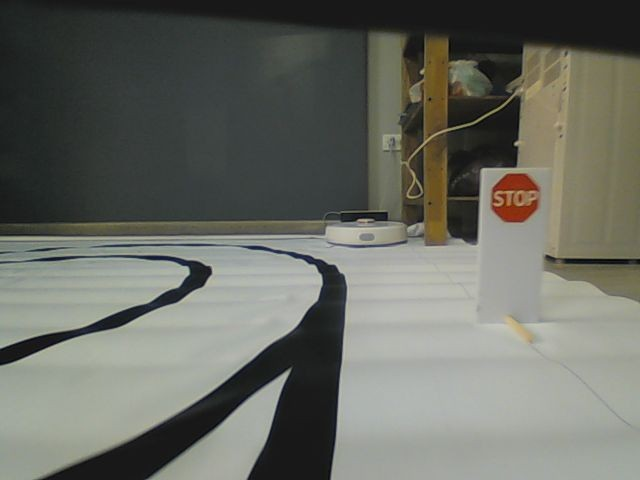Stop: (491, 171, 542, 223)
